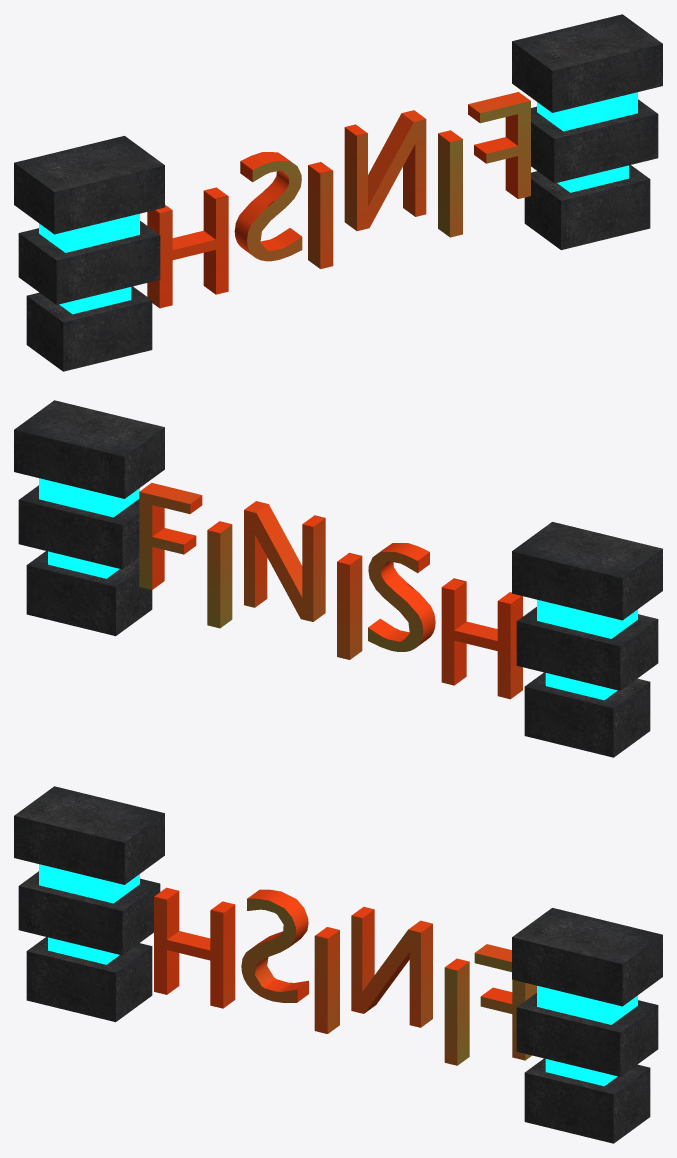
The model's file is ARC0310002.fbx.
3 views of the same model, one above another, from view 1: azimuth 30°, elevation 25°; view 2: azimuth 150°, elevation 25°; view 3: azimuth 330°, elevation 25° (orthographic).
Visible parts, largest first — view 1: smARC0310002; view 2: smARC0310002; view 3: smARC0310002.
Part boxes in pixels (left/top/right/bottom): smARC0310002: left=14, top=14, right=662, bottom=371; smARC0310002: left=14, top=400, right=662, bottom=757; smARC0310002: left=14, top=786, right=662, bottom=1143.
Bounding box in the file's own units: 263 × 75.79 × 30.27.
Materials: 1 (1 with a texture image).
